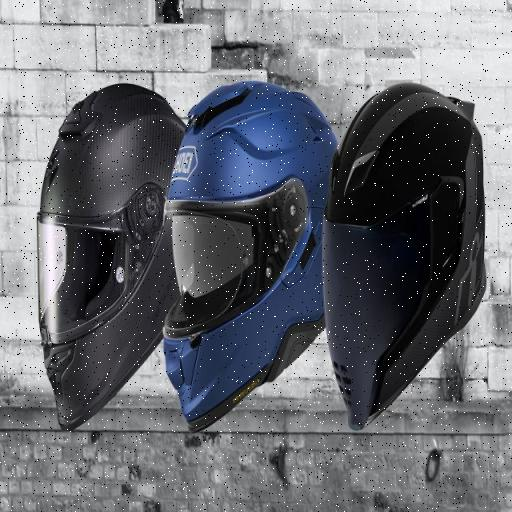Helmet: (164, 82, 336, 431), (324, 84, 485, 429), (38, 84, 184, 429)
